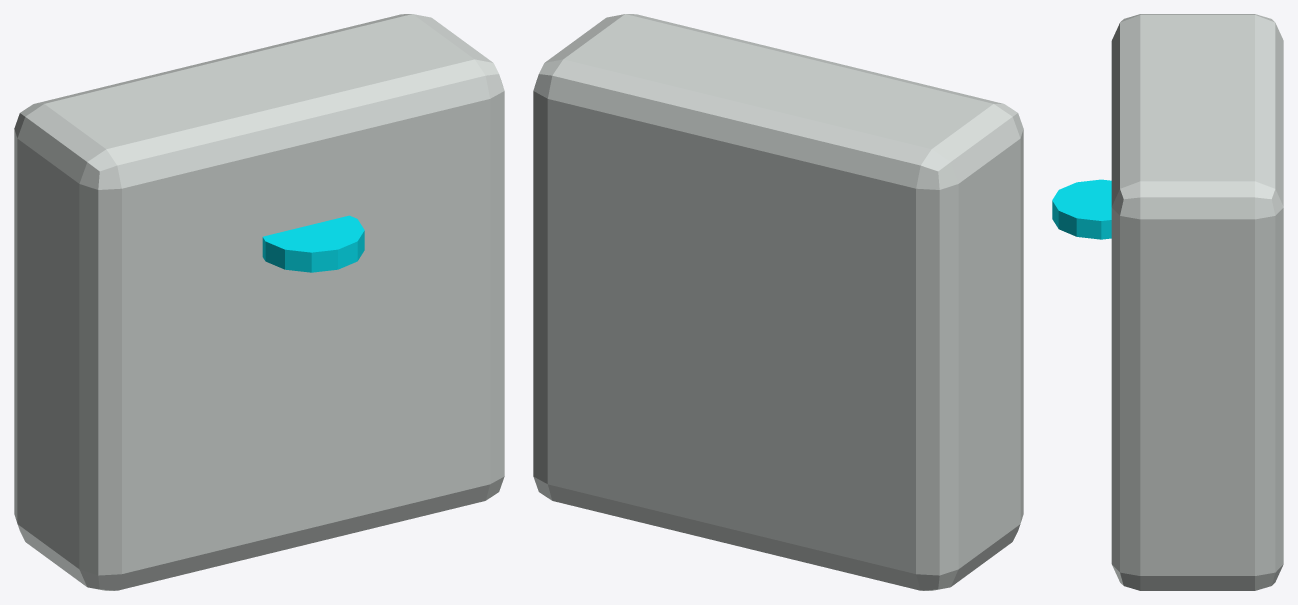
Rendered from LPK_Cooling_Exchanger.fbx.
3 renders of one model, left to right at view 1: azimuth 30°, elevation 25°; view 2: azimuth 150°, elevation 25°; view 3: azimuth 270°, elevation 25°, orthographic. The views are drawn at different scales.
Parts seen in each view (by area): view 1: Exchanger, ValvePivot; view 2: Exchanger; view 3: Exchanger, ValvePivot.
Boxes of the visible parts, x1=… form: Exchanger: x1=14, y1=14, x2=504, y2=590; ValvePivot: x1=262, y1=215, x2=364, y2=272; Exchanger: x1=533, y1=14, x2=1023, y2=590; Exchanger: x1=1111, y1=14, x2=1283, y2=590; ValvePivot: x1=1052, y1=179, x2=1111, y2=239.
Bounding box in the file's own units: 2.2 × 2.2 × 1.13.
